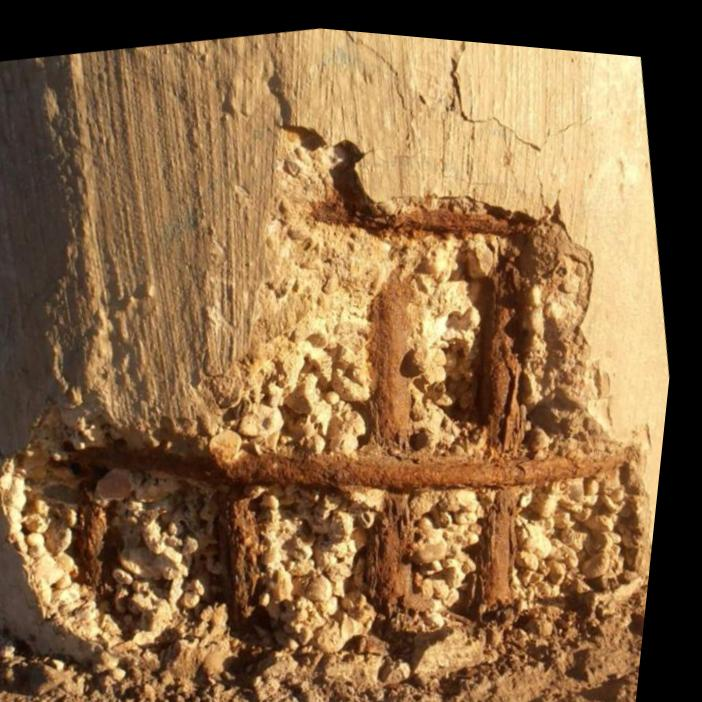crack: (450, 32, 545, 143), (345, 24, 410, 103)
damage: (0, 62, 659, 702)
